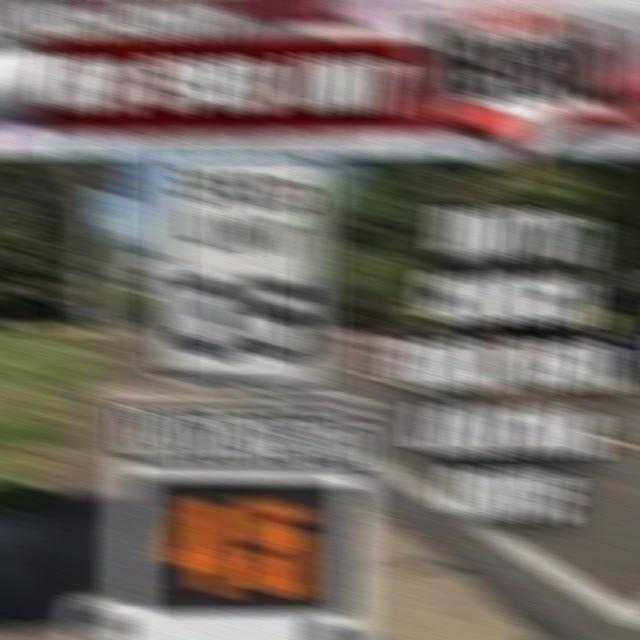speedLimit35: (162, 155, 327, 388)
